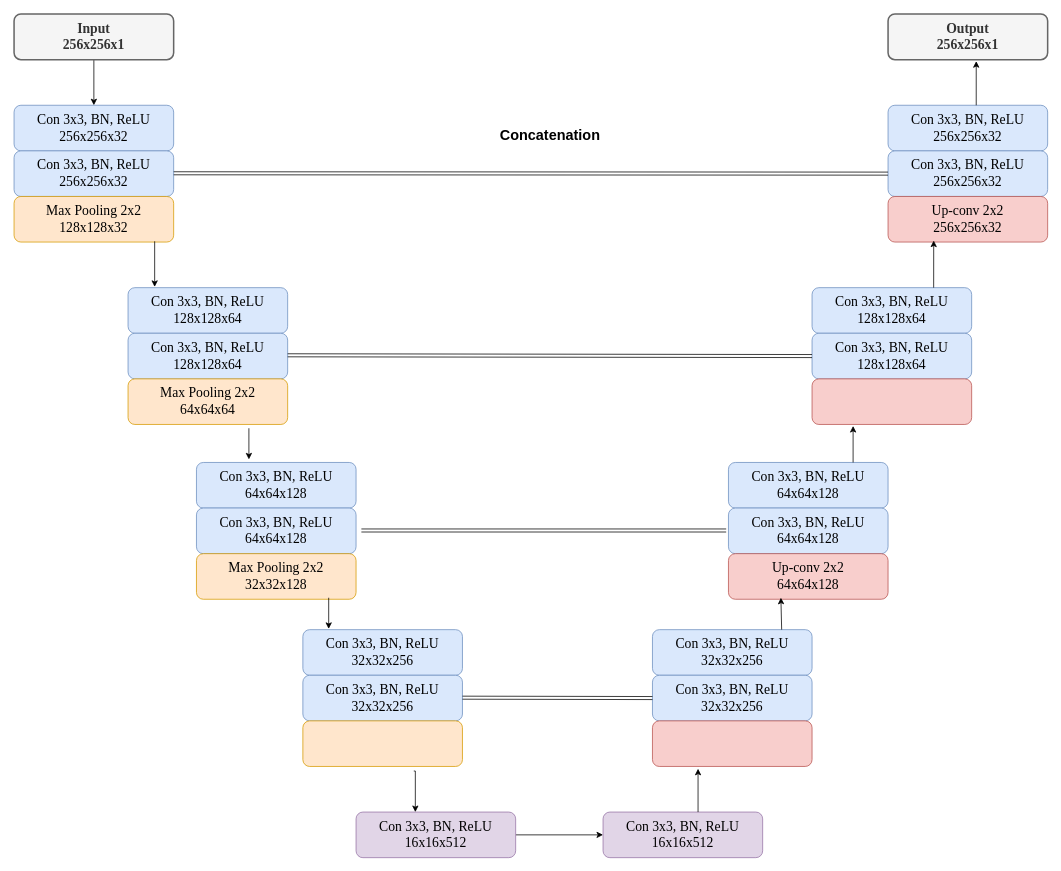
This 1061x871 diagram has some shape labels left out. The shapes that lost their labels are listed below. From the top down, each one's box as (x1, y1, x2, y2) in pixels, then its label:
(811, 378, 972, 424): Up-conv 2x2 128x128x64
(302, 720, 462, 766): Max Pooling 2x2 16x16x256
(652, 720, 812, 766): Up-conv 2x2 32x32x256
